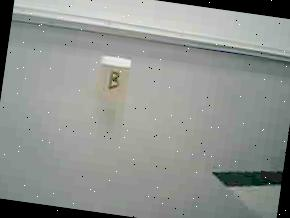Bottle B: (86, 47, 144, 113)
